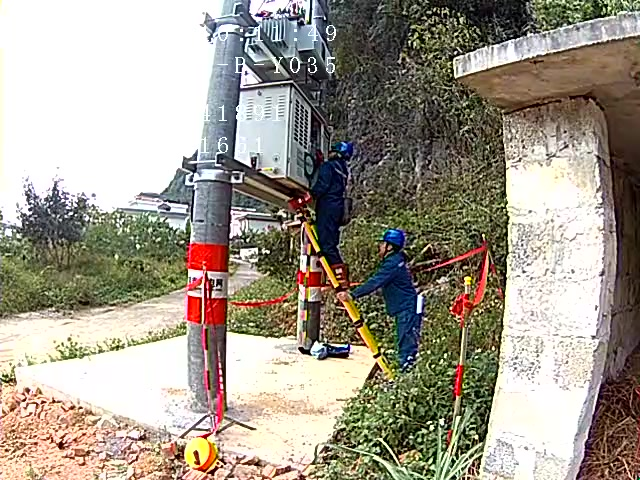downsuit: (316, 200, 347, 262), (396, 312, 423, 366)
halt: (381, 229, 406, 251), (332, 142, 354, 158)
hand: (335, 288, 353, 303)
inear: (382, 242, 394, 254)
longglove: (286, 187, 314, 212)
person: (358, 227, 425, 371), (302, 141, 358, 287)
shoe: (329, 260, 351, 288)
support: (338, 223, 423, 367)
upsuit: (358, 255, 420, 314), (313, 159, 349, 198)
